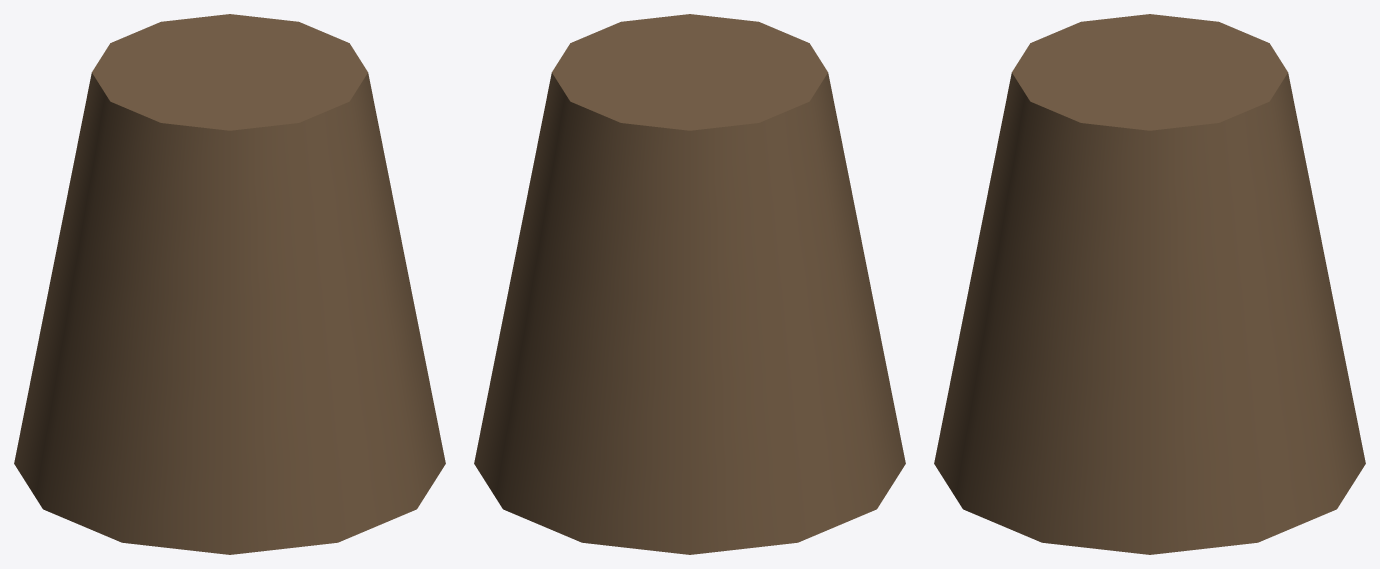
The model's file is stem.glb.
The picture shows the model from 3 angles, left to right: view 1: azimuth 30°, elevation 25°; view 2: azimuth 150°, elevation 25°; view 3: azimuth 270°, elevation 25°; orthographic projection.
Visible parts, largest first — view 1: stem; view 2: stem; view 3: stem.
Boxes of the visible parts, box(x1,y1,x2,y2) form: stem: box(14, 14, 445, 554); stem: box(474, 14, 905, 554); stem: box(934, 14, 1365, 554).
Size of the model in its own units: 1 by 1 by 1.
